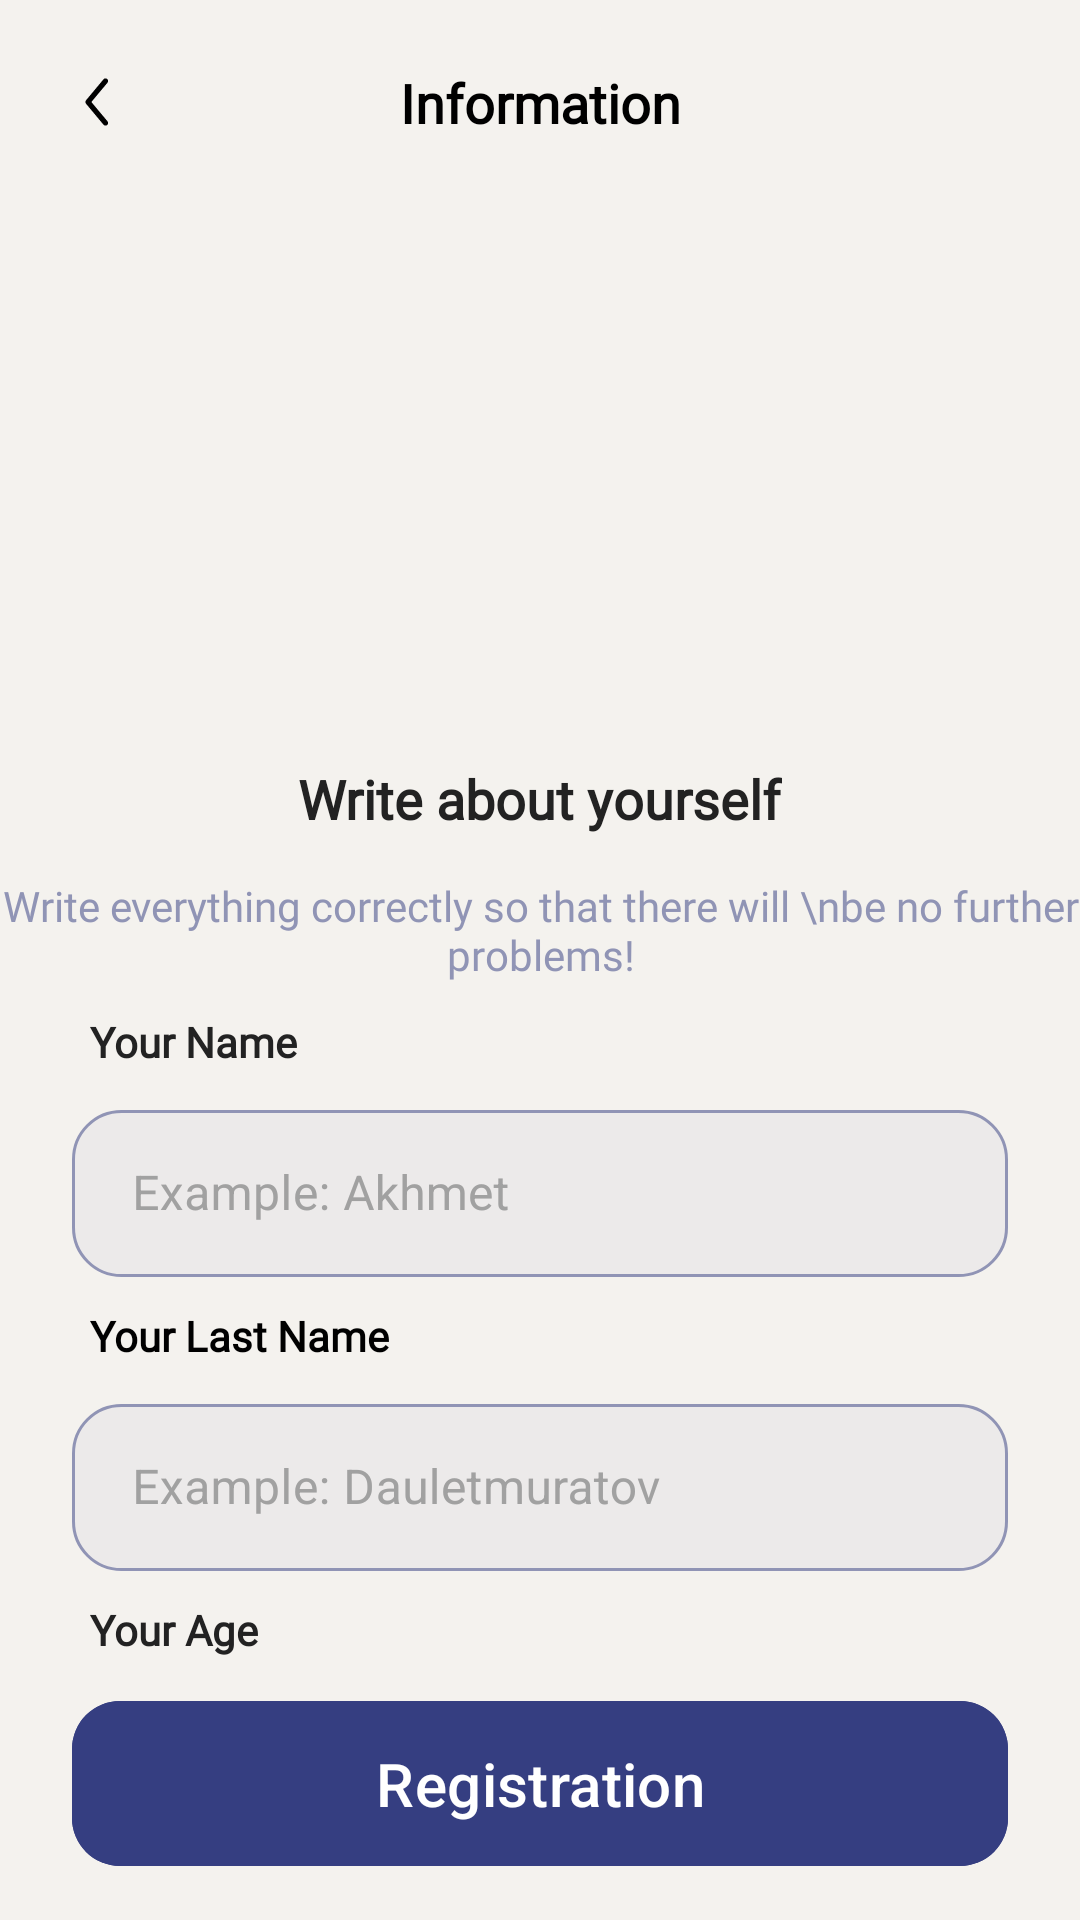

Icons on this 1080*1920 Android screen, each with its box as (x1, y1, x2, y2):
back: (85, 78, 108, 126)
